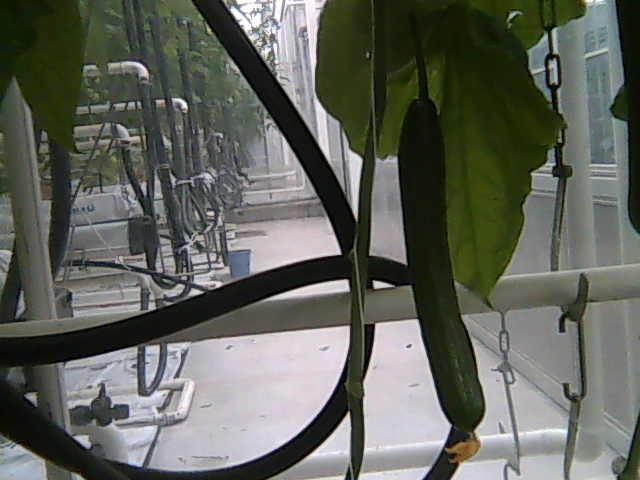concombre: (396, 88, 490, 465)
